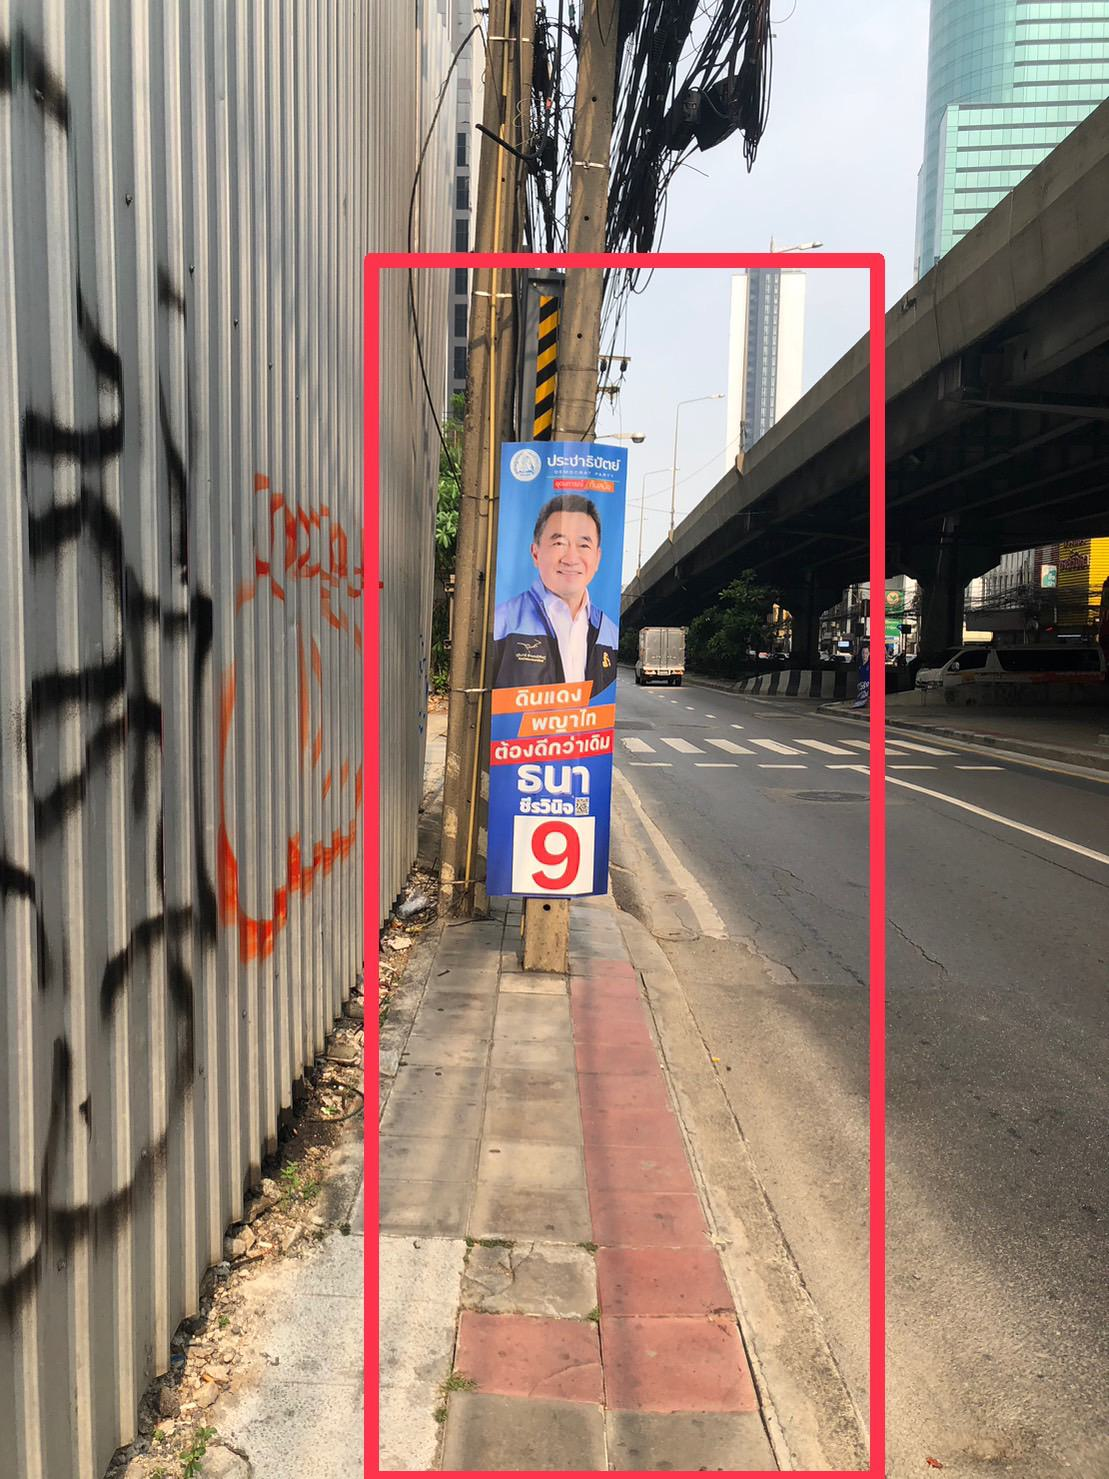Banner: (473, 440, 633, 905)
